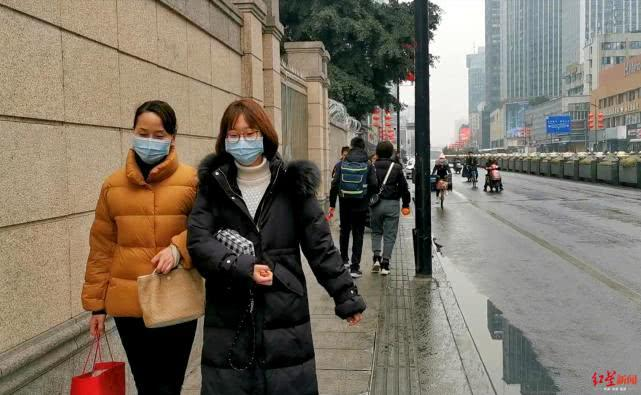OK: (132, 121, 173, 163), (226, 124, 266, 167)
